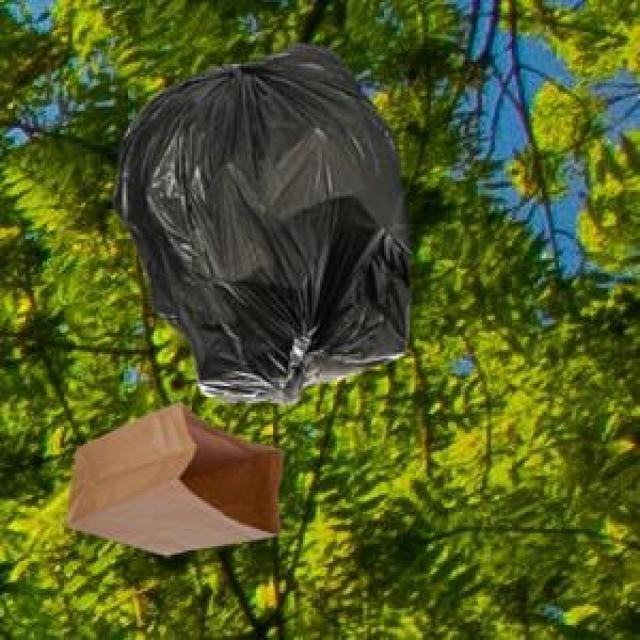miscellaneous trash: (109, 38, 408, 401)
paper: (62, 397, 280, 550)
